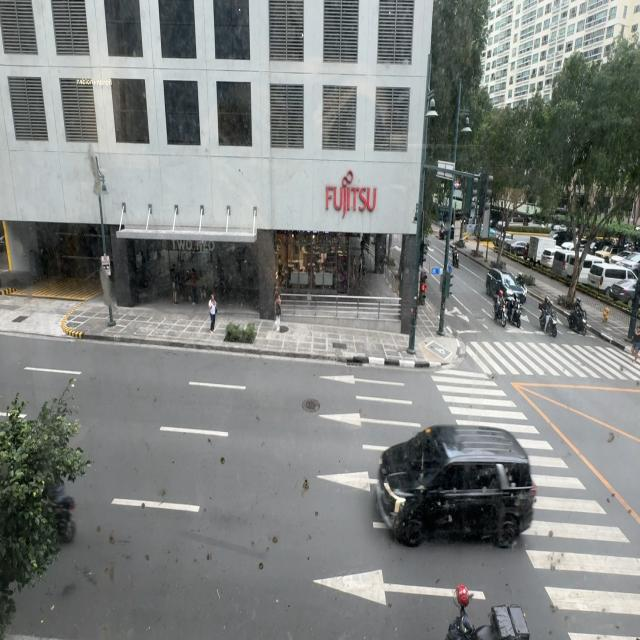crossing: (633, 320, 640, 362)
